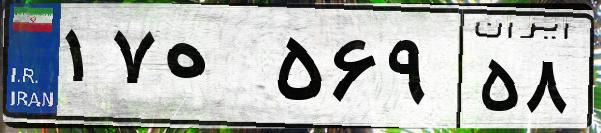1: (57, 26, 110, 100)
5: (270, 28, 330, 110), (475, 38, 525, 113)
6: (330, 28, 385, 110)
7: (110, 28, 158, 98)
8: (525, 38, 570, 115)
9: (385, 28, 445, 110)
ه: (158, 20, 270, 120)
